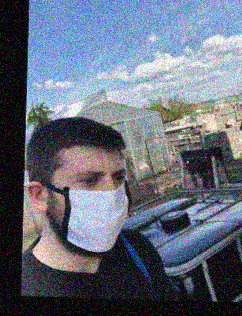with_mask: (58, 161, 131, 255)
